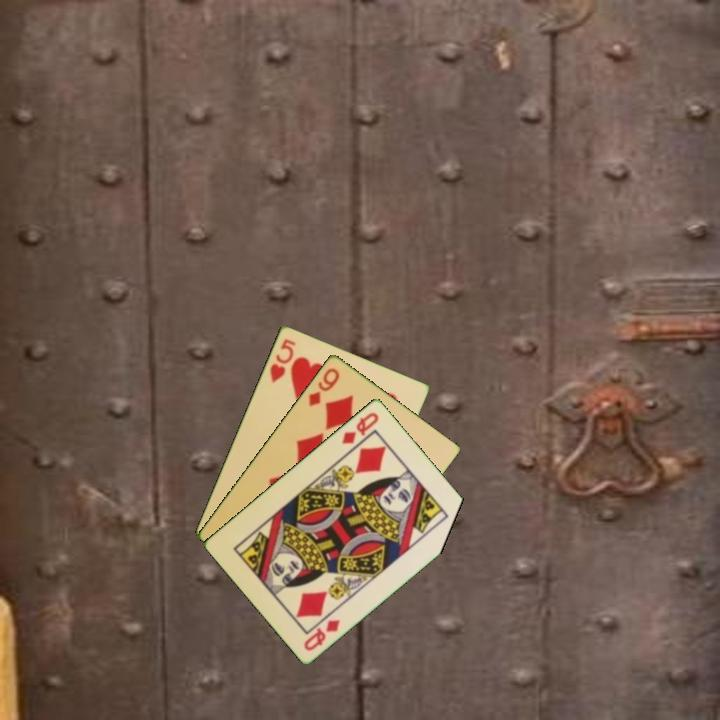5h: (266, 335, 299, 386)
9d: (305, 364, 343, 409)
Qd: (338, 408, 382, 447), (300, 615, 343, 654)
